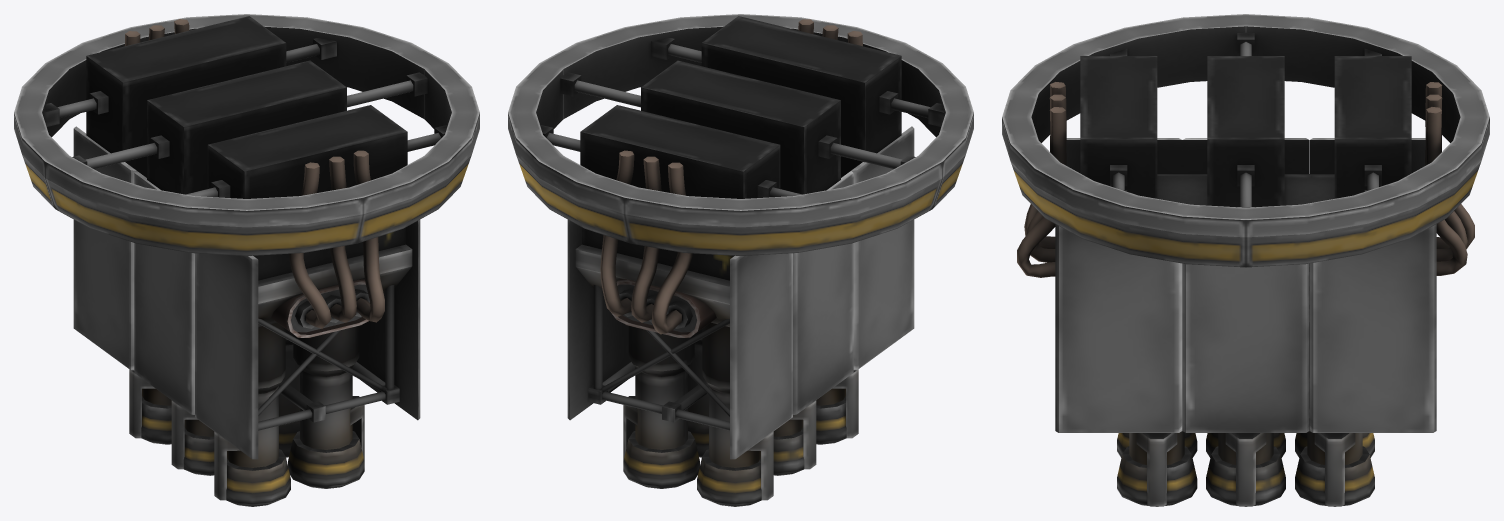
The model's file is bluedog_Tempel2Ion.fbx.
The picture shows the model from 3 angles, left to right: view 1: azimuth 30°, elevation 25°; view 2: azimuth 150°, elevation 25°; view 3: azimuth 270°, elevation 25°; orthographic projection. The views are drawn at different scales.
Visible parts, largest first — view 1: Tempel2_Ion_Merged; view 2: Tempel2_Ion_Merged; view 3: Tempel2_Ion_Merged.
Part boxes in pixels (bbox=[...]): Tempel2_Ion_Merged: bbox=[14, 14, 479, 506]; Tempel2_Ion_Merged: bbox=[508, 14, 973, 506]; Tempel2_Ion_Merged: bbox=[1002, 14, 1489, 506].
Size of the model in its own units: 0.625 by 0.5343 by 0.625.
1 material, 1 textured.
